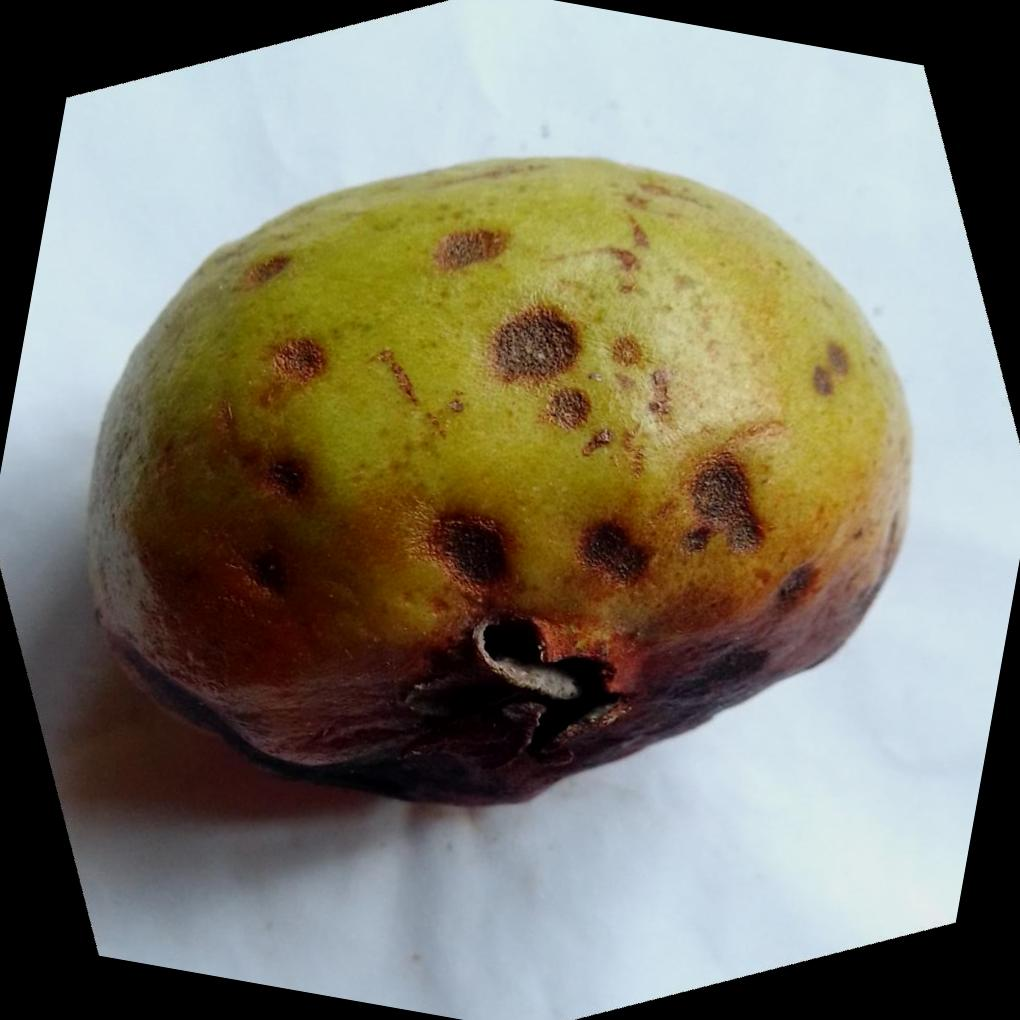FreshOrange: (81, 152, 912, 809)
